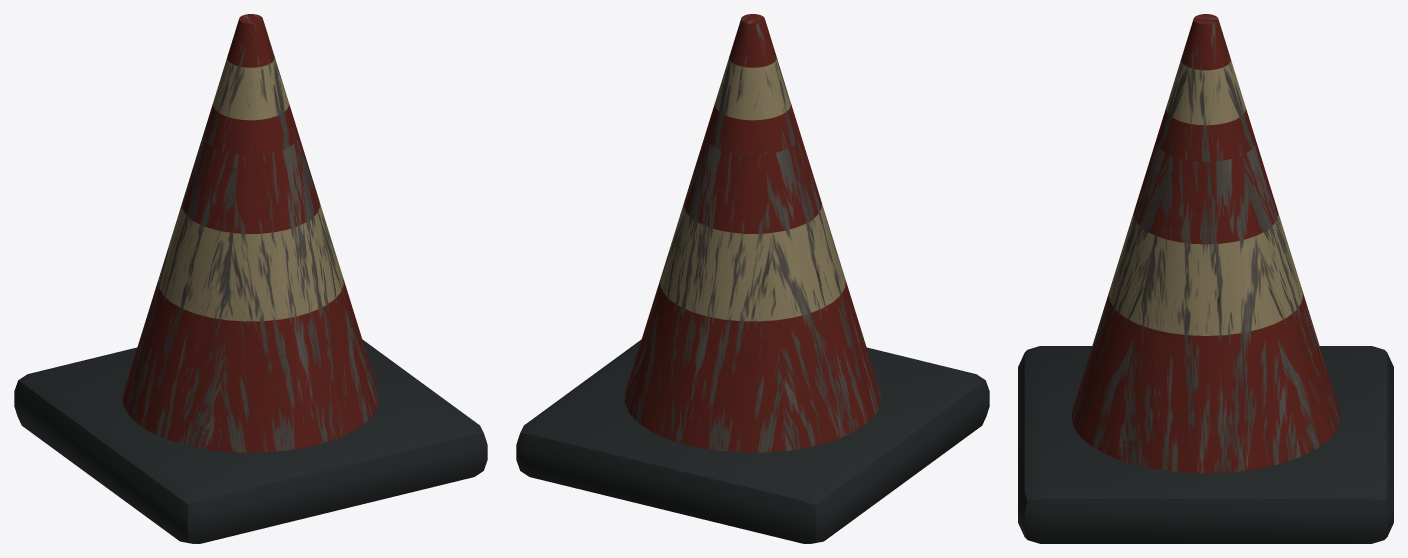
The model's file is SM_SafetyCone_1c914ed02d.fbx.
The picture shows the model from 3 angles, left to right: view 1: azimuth 30°, elevation 25°; view 2: azimuth 150°, elevation 25°; view 3: azimuth 270°, elevation 25°; orthographic projection. The views are drawn at different scales.
Parts seen in each view (by area): view 1: SM_SafetyCone_1c914ed02d; view 2: SM_SafetyCone_1c914ed02d; view 3: SM_SafetyCone_1c914ed02d.
Boxes of the visible parts, left/top/right/bottom form: SM_SafetyCone_1c914ed02d: left=14, top=14, right=487, bottom=543; SM_SafetyCone_1c914ed02d: left=516, top=14, right=989, bottom=543; SM_SafetyCone_1c914ed02d: left=1018, top=14, right=1393, bottom=543.
Size of what is drawn, in the model's own units: 42 by 42 by 56.
3 materials, 2 textured.
